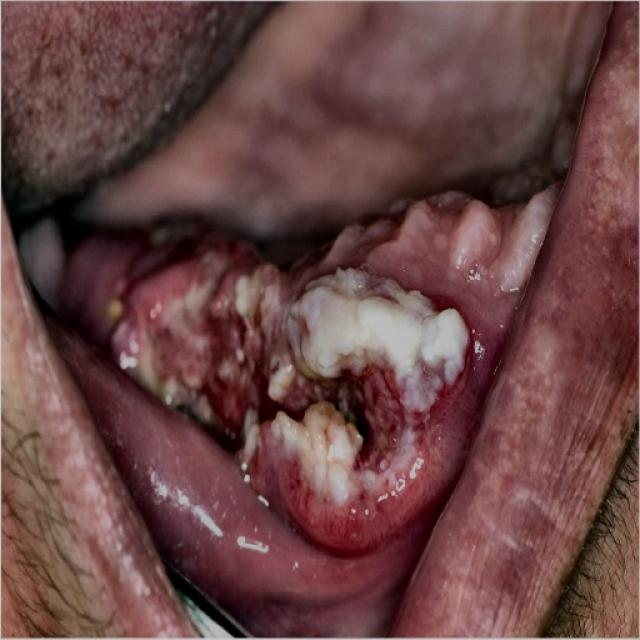cancer-detection: (92, 175, 560, 569)
processing_area: (62, 0, 619, 639)
